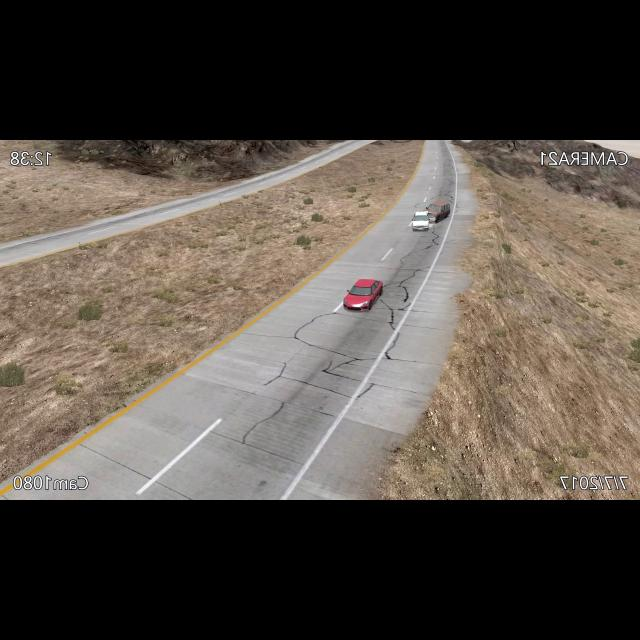accident: (409, 199, 458, 233)
